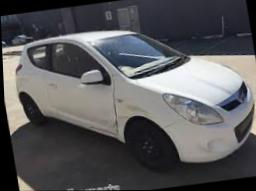Bumper: (196, 130, 233, 160)
Fender: (113, 96, 182, 136)
